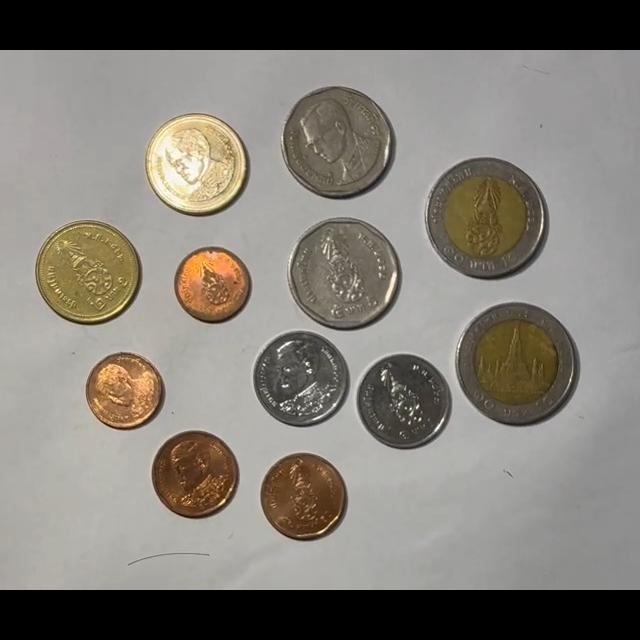1-baht: (252, 329, 348, 426), (356, 353, 452, 449)
10-baht: (456, 302, 579, 425), (425, 157, 548, 278)
2-baht: (36, 221, 140, 325), (145, 113, 249, 217)
25-satang: (86, 352, 164, 429), (175, 246, 251, 322)
5-baht: (282, 85, 395, 198), (288, 218, 401, 329)
50-satang: (260, 453, 347, 541), (152, 431, 239, 518)
